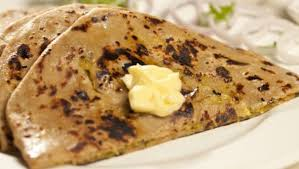aloo_paratha: (2, 3, 299, 168)
